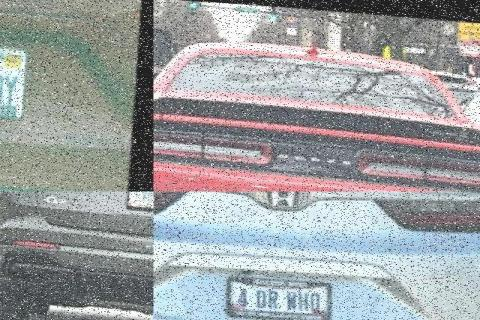LicensePlate: (226, 273, 332, 318), (0, 38, 58, 118), (125, 191, 152, 207)
